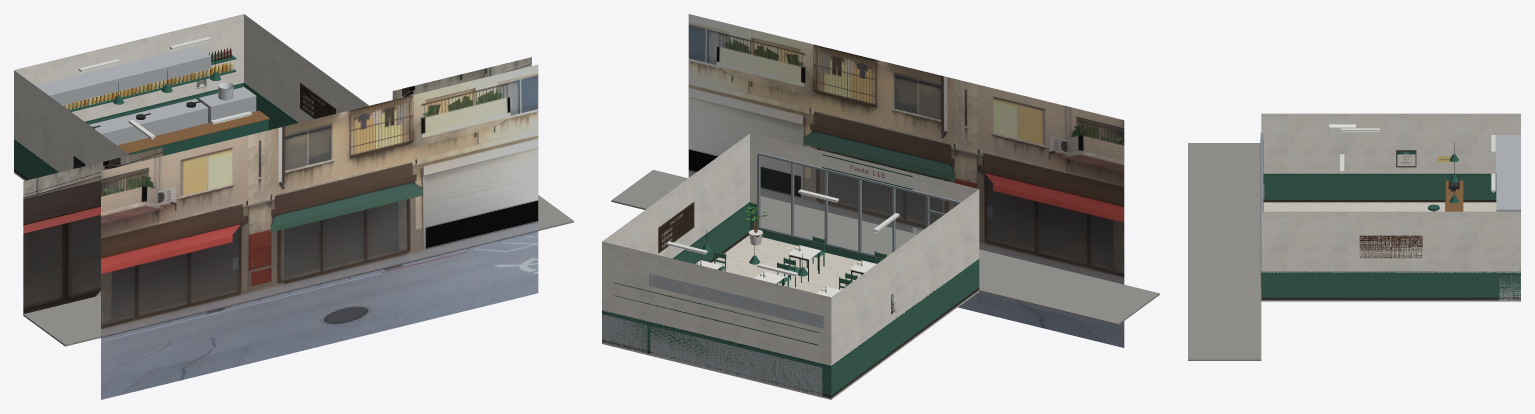
Rendered from l118_pasta.glb.
The picture shows the model from 3 angles, left to right: view 1: azimuth 30°, elevation 25°; view 2: azimuth 150°, elevation 25°; view 3: azimuth 270°, elevation 25°; orthographic projection. The views are drawn at different scales.
Visible parts, largest first — view 1: WALL_S_view, WALL_W_nb_view, l118_pasta_steel, WALL_N_wall, l118_pasta_props, WALL_E_wall, WALL_W_wall, WALL_N_trim, l118_pasta_woodparts, WALL_E_nb_view, WALL_W_wain, WALL_E_print (+1 smaller); view 2: WALL_S_view, l118_pasta_props, WALL_N_wall, WALL_W_wall, WALL_S_glass, l118_pasta_steel, WALL_E_wall, l118_pasta_floorm, WALL_W_wain, WALL_N_wain, WALL_S_wall, WALL_S_frame (+7 smaller); view 3: l118_pasta_props, WALL_E_wall, WALL_W_wall, WALL_E_wain, WALL_W_wain, WALL_E_trim, l118_pasta_floorm, l118_pasta_steel, WALL_W_trim, WALL_S_frame, l118_pasta_woodparts, WALL_W_print.
Part boxes in pixels (x1=…): WALL_S_view: x1=101, y1=64, x2=538, y2=399; WALL_W_nb_view: x1=23, y1=147, x2=162, y2=314; l118_pasta_steel: x1=35, y1=46, x2=256, y2=145; WALL_N_wall: x1=14, y1=14, x2=243, y2=121; l118_pasta_props: x1=23, y1=37, x2=573, y2=346; WALL_E_wall: x1=244, y1=14, x2=368, y2=122; WALL_W_wall: x1=14, y1=70, x2=129, y2=172; WALL_N_trim: x1=14, y1=47, x2=243, y2=171; l118_pasta_woodparts: x1=117, y1=110, x2=269, y2=153; WALL_E_nb_view: x1=392, y1=57, x2=531, y2=99; WALL_W_wain: x1=14, y1=140, x2=57, y2=179; WALL_E_print: x1=300, y1=84, x2=335, y2=118; WALL_S_view: x1=688, y1=14, x2=1124, y2=347; l118_pasta_props: x1=611, y1=169, x2=1159, y2=325; WALL_N_wall: x1=602, y1=241, x2=831, y2=365; WALL_W_wall: x1=831, y1=189, x2=979, y2=365; WALL_S_glass: x1=760, y1=156, x2=954, y2=255; l118_pasta_steel: x1=602, y1=273, x2=823, y2=395; WALL_E_wall: x1=602, y1=133, x2=749, y2=258; l118_pasta_floorm: x1=602, y1=235, x2=979, y2=399; WALL_W_wain: x1=831, y1=259, x2=979, y2=397; WALL_N_wain: x1=602, y1=311, x2=831, y2=397; WALL_S_wall: x1=750, y1=133, x2=978, y2=203; WALL_S_frame: x1=757, y1=152, x2=961, y2=258; l118_pasta_props: x1=1188, y1=124, x2=1495, y2=360; WALL_E_wall: x1=1261, y1=211, x2=1520, y2=272; WALL_W_wall: x1=1261, y1=113, x2=1520, y2=173; WALL_E_wain: x1=1261, y1=272, x2=1520, y2=300; WALL_W_wain: x1=1263, y1=175, x2=1496, y2=199; WALL_E_trim: x1=1261, y1=235, x2=1520, y2=300; l118_pasta_floorm: x1=1261, y1=202, x2=1520, y2=301; l118_pasta_steel: x1=1496, y1=135, x2=1520, y2=300; WALL_W_trim: x1=1263, y1=150, x2=1496, y2=202; WALL_S_frame: x1=1260, y1=132, x2=1264, y2=288; l118_pasta_woodparts: x1=1445, y1=180, x2=1463, y2=211; WALL_W_print: x1=1397, y1=151, x2=1451, y2=166.
Bounding box in the file's own units: 16.8 × 7.22 × 10.9.
17 materials, 10 textured.
